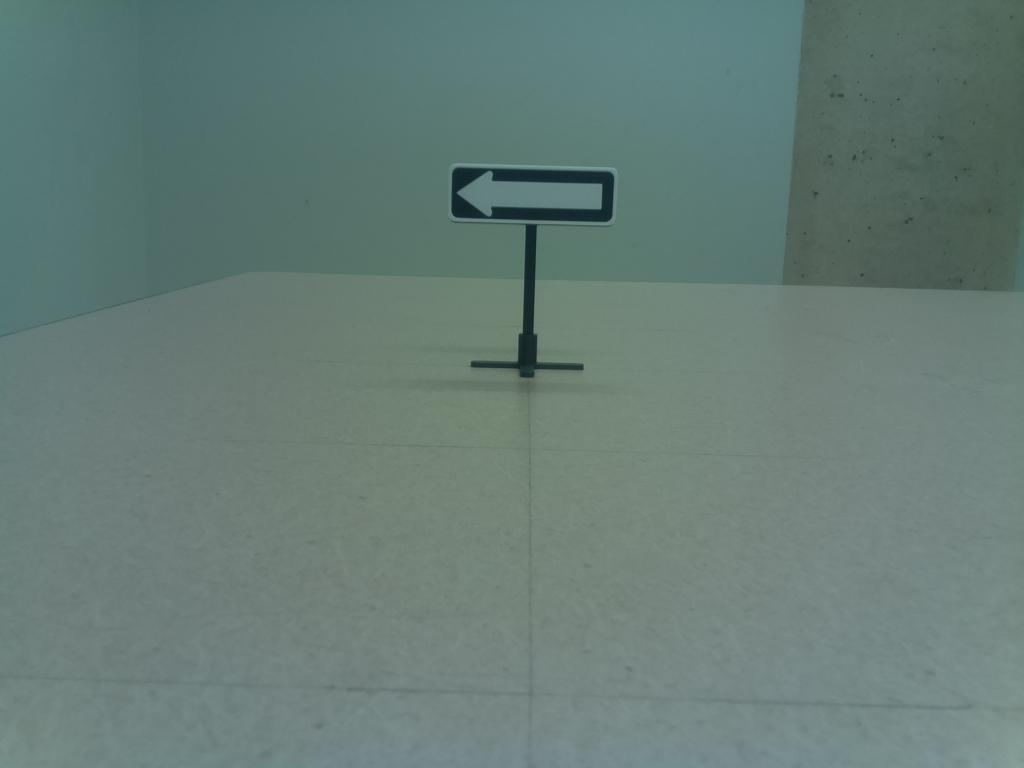sign_oneway_left: (443, 157, 625, 235)
